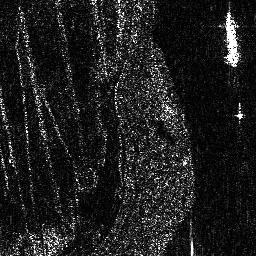ship: (223, 11, 240, 67)
